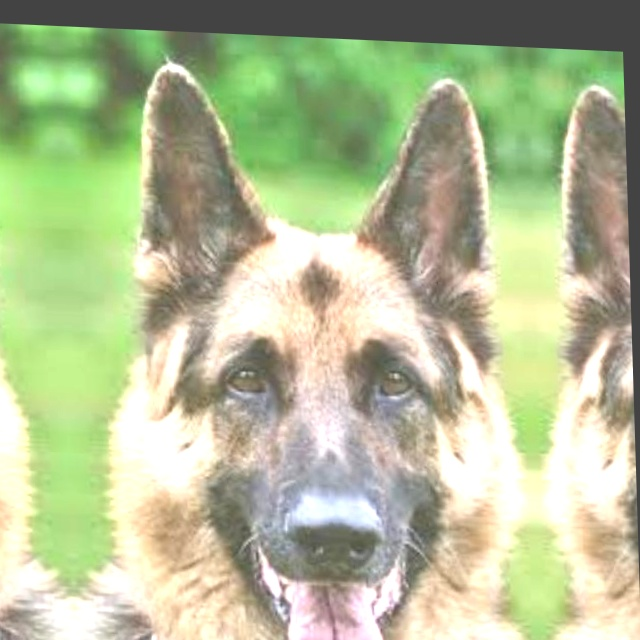dog: (83, 75, 541, 640), (522, 95, 640, 640), (0, 69, 49, 640)
